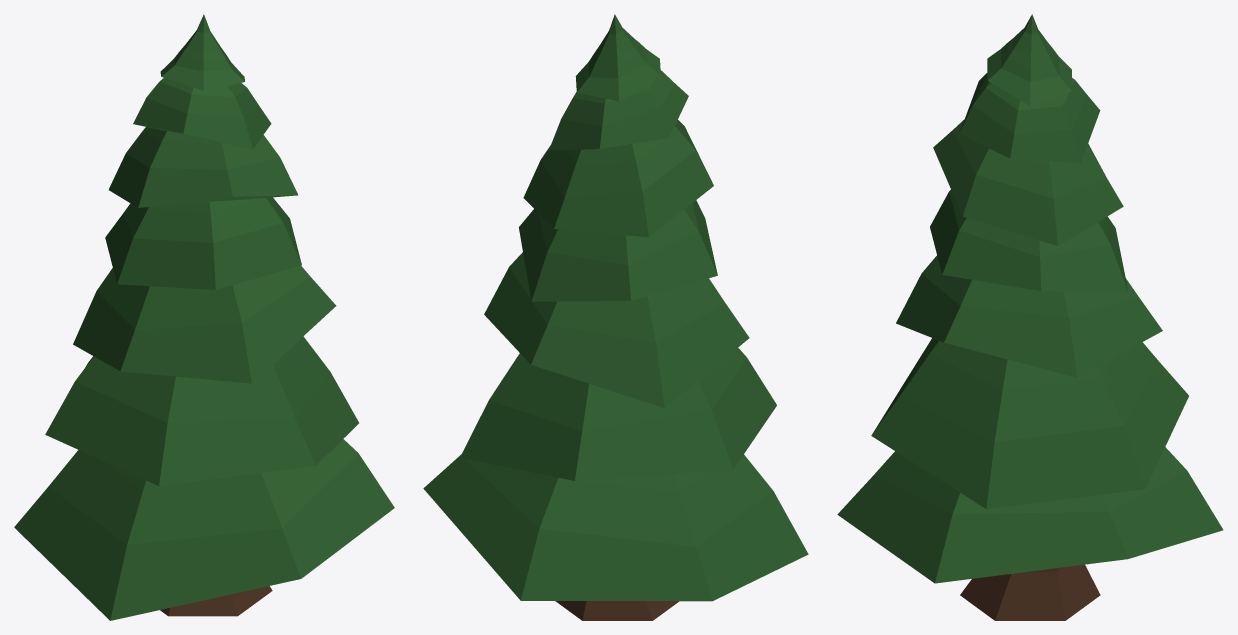
The model's file is pine_tree3.glb.
3 renders of one model, left to right at view 1: azimuth 30°, elevation 25°; view 2: azimuth 150°, elevation 25°; view 3: azimuth 270°, elevation 25°, orthographic.
Parts seen in each view (by area): view 1: Cylinder.001, Cylinder.002, Cylinder.003, Cylinder.004, Cylinder.005, Cylinder.007, Cylinder.006, Cylinder; view 2: Cylinder.001, Cylinder.002, Cylinder.003, Cylinder.005, Cylinder.004, Cylinder.007, Cylinder.006, Cylinder; view 3: Cylinder.002, Cylinder.001, Cylinder.003, Cylinder.005, Cylinder.004, Cylinder.007, Cylinder, Cylinder.006.
Part boxes in pixels (x1=…): Cylinder.001: x1=14, y1=439, x2=394, y2=620; Cylinder.002: x1=45, y1=336, x2=358, y2=486; Cylinder.003: x1=73, y1=265, x2=336, y2=383; Cylinder.004: x1=105, y1=197, x2=301, y2=289; Cylinder.005: x1=108, y1=127, x2=297, y2=207; Cylinder.007: x1=133, y1=78, x2=271, y2=149; Cylinder.006: x1=160, y1=14, x2=244, y2=90; Cylinder: x1=160, y1=586, x2=272, y2=616; Cylinder.001: x1=423, y1=454, x2=808, y2=601; Cylinder.002: x1=460, y1=348, x2=776, y2=480; Cylinder.003: x1=484, y1=252, x2=749, y2=407; Cylinder.005: x1=523, y1=120, x2=713, y2=237; Cylinder.004: x1=519, y1=200, x2=717, y2=301; Cylinder.007: x1=549, y1=70, x2=688, y2=150; Cylinder.006: x1=575, y1=14, x2=660, y2=101; Cylinder: x1=555, y1=601, x2=679, y2=620; Cylinder.002: x1=871, y1=338, x2=1188, y2=509; Cylinder.001: x1=837, y1=447, x2=1223, y2=583; Cylinder.003: x1=896, y1=255, x2=1162, y2=377; Cylinder.005: x1=933, y1=119, x2=1123, y2=245; Cylinder.004: x1=930, y1=190, x2=1128, y2=292; Cylinder.007: x1=959, y1=73, x2=1100, y2=163; Cylinder: x1=960, y1=564, x2=1100, y2=620; Cylinder.006: x1=987, y1=14, x2=1072, y2=105.
Bounding box in the file's own units: 6.37 × 12.25 × 7.37.
